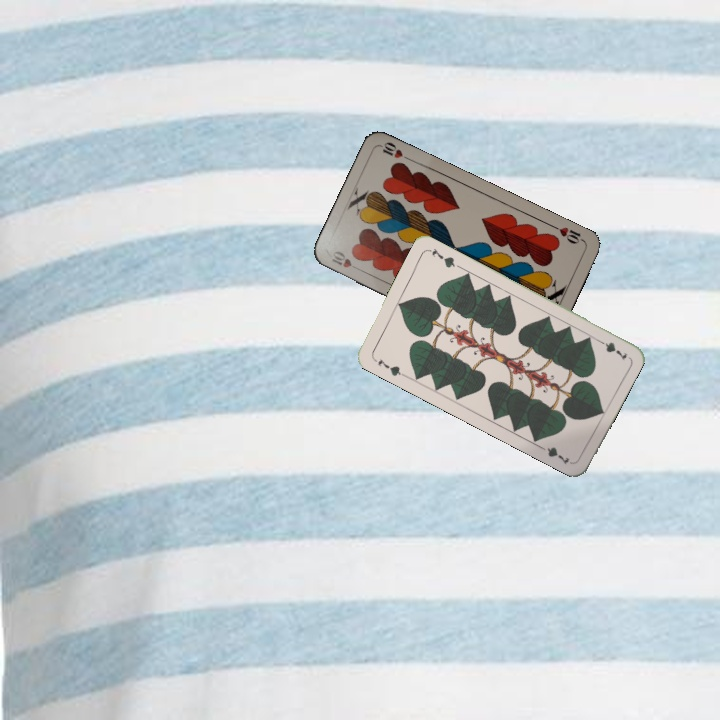G7: (592, 335, 630, 363), (369, 354, 407, 379)
H10: (327, 247, 364, 274), (548, 221, 587, 246)
